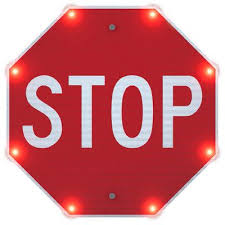stop sign: (9, 8, 216, 216)
